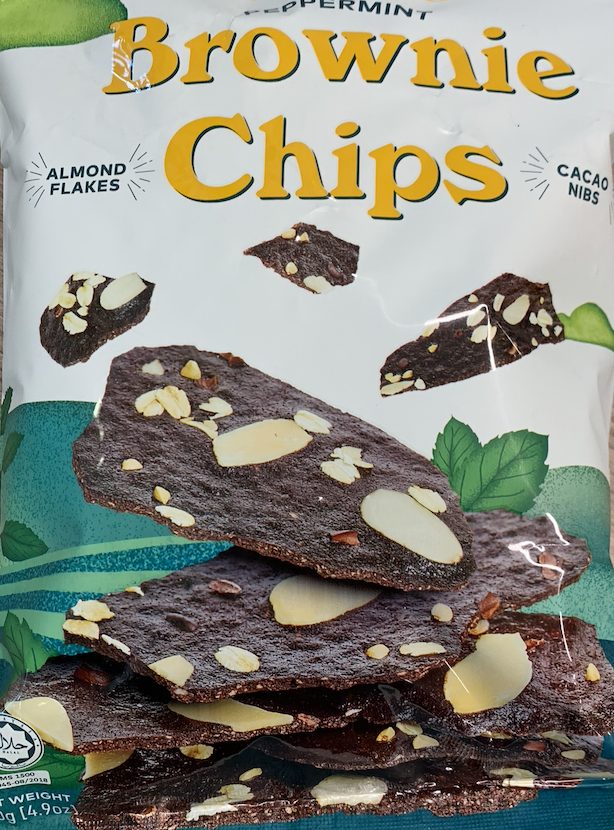cookies_150g: (7, 24, 584, 790)
